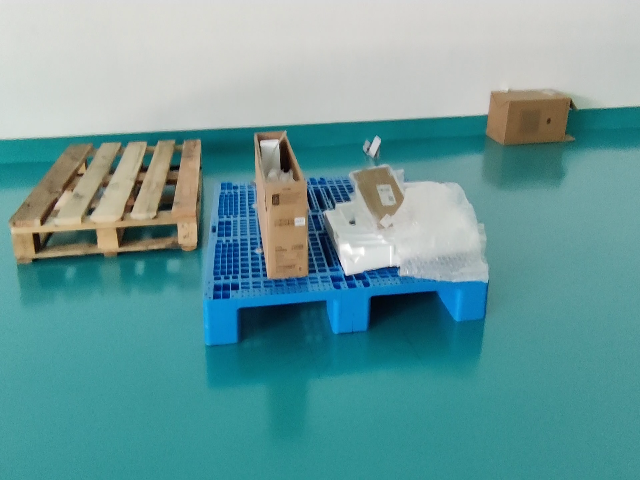block: (329, 291, 376, 334), (199, 300, 239, 344), (452, 282, 489, 326)
front: (204, 281, 487, 348)
hole pallet: (238, 301, 332, 344), (367, 289, 454, 331)
